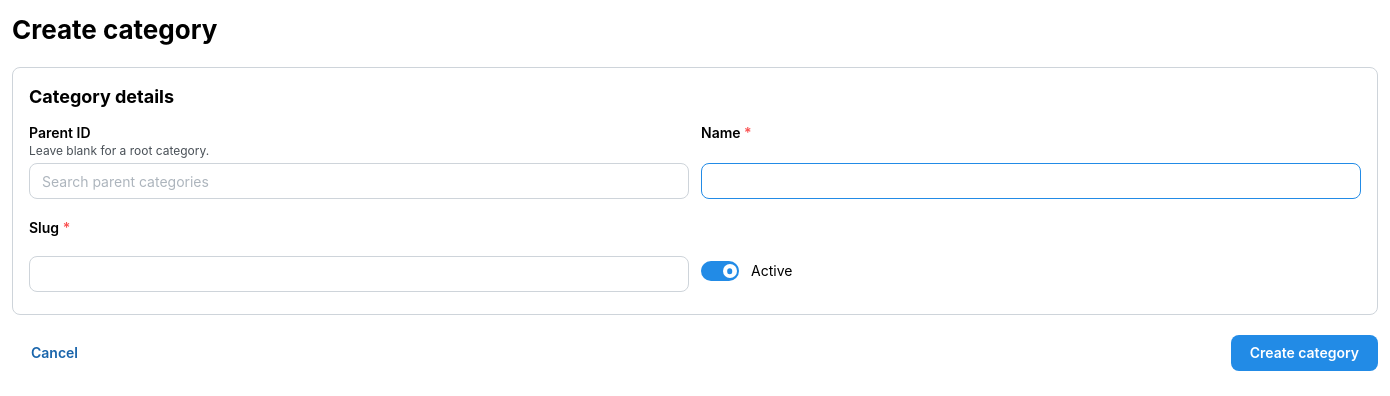
Test: CategoryFormView › maps duplicate category slug backend errors to the slug field
Type "Duplicate category" into the field labelled "Name *" at [1031, 181], box [701, 163, 1361, 199]
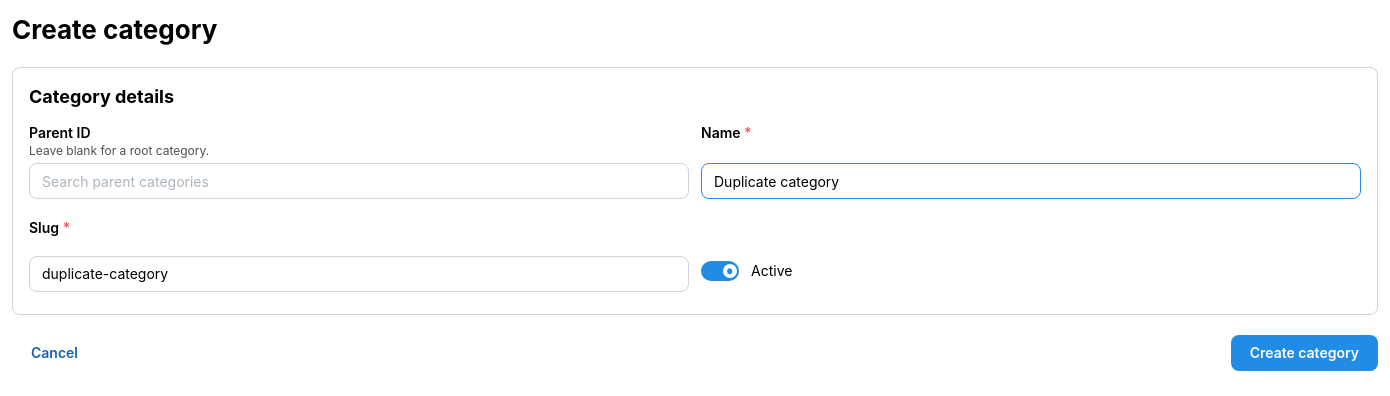
Click the button "Create category" at [1304, 353], box [1231, 335, 1378, 371]
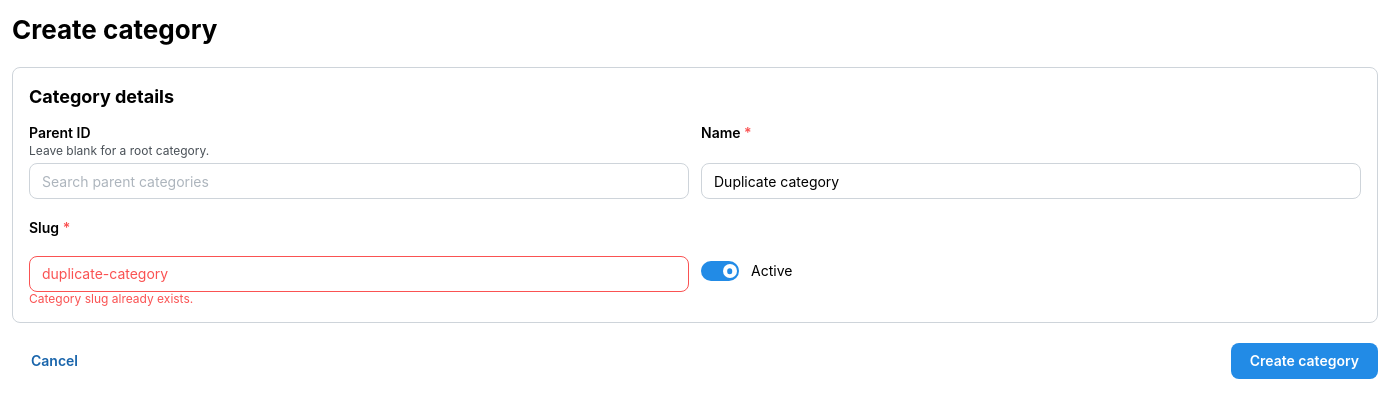
Check: the text "Category slug already exists." is shown, box [29, 291, 193, 306]
